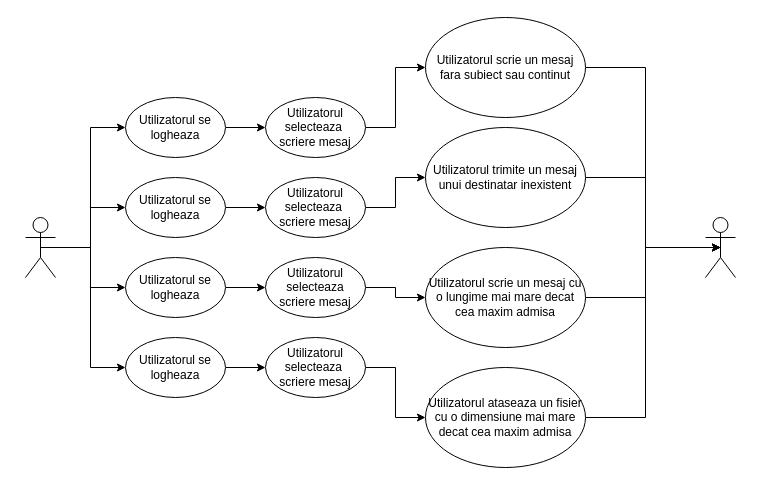
This 760x485 diagram has some shape labels left out. The shapes that lost their labels are listed below. From the top down, each one's box as (x1, y1, x2, y2) in pixels, then its label:
(24, 216, 56, 278): Utilizator
(704, 216, 736, 278): Aplicatie
